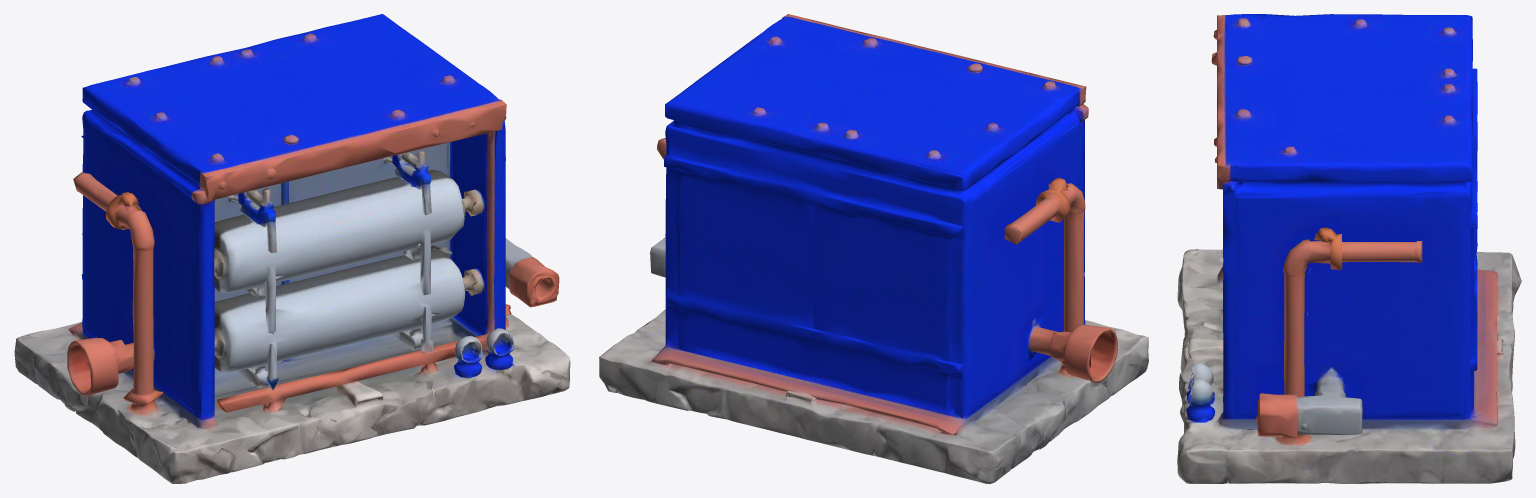
File: membrane-skid.glb
The picture shows the model from 3 angles, left to right: view 1: azimuth 30°, elevation 25°; view 2: azimuth 150°, elevation 25°; view 3: azimuth 270°, elevation 25°; orthographic projection. The views are drawn at different scales.
Parts seen in each view (by area): view 1: tripo_node_fc28ae1f-517b-4e3c-a4d4-bc1651fe9a73; view 2: tripo_node_fc28ae1f-517b-4e3c-a4d4-bc1651fe9a73; view 3: tripo_node_fc28ae1f-517b-4e3c-a4d4-bc1651fe9a73.
Boxes of the visible parts, left/top/right/bottom form: tripo_node_fc28ae1f-517b-4e3c-a4d4-bc1651fe9a73: left=14, top=14, right=570, bottom=483; tripo_node_fc28ae1f-517b-4e3c-a4d4-bc1651fe9a73: left=599, top=14, right=1148, bottom=483; tripo_node_fc28ae1f-517b-4e3c-a4d4-bc1651fe9a73: left=1177, top=14, right=1521, bottom=483.
Bounding box in the file's own units: 1 × 0.6251 × 0.6478.
1 material, 1 textured.
